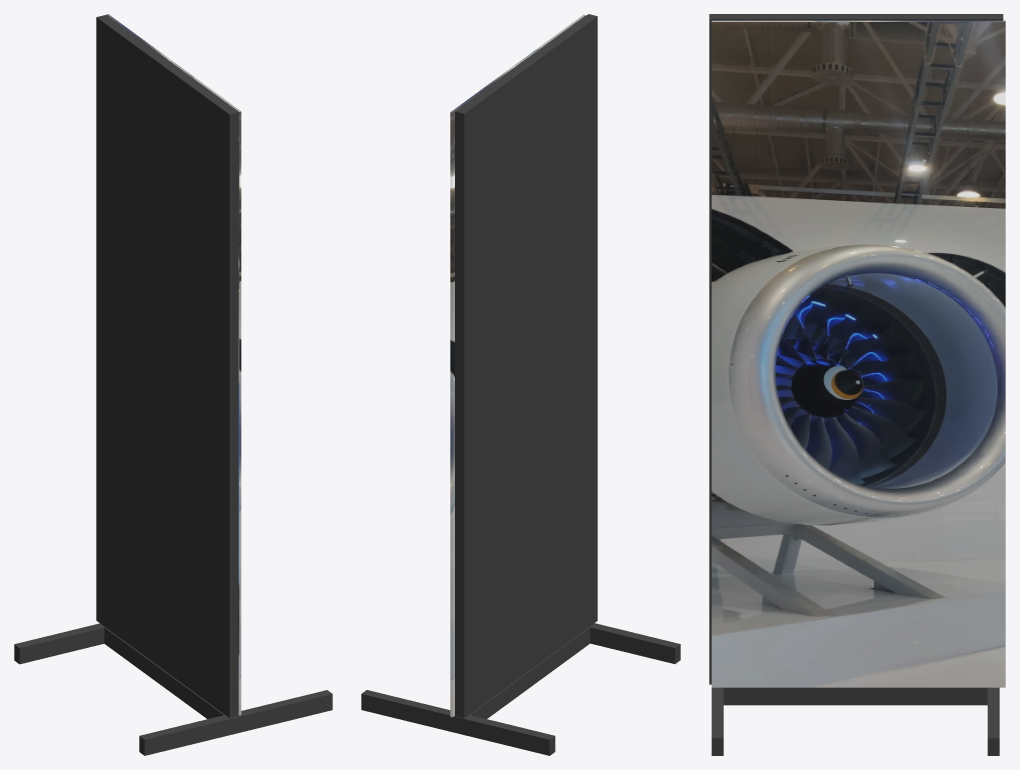
Rendered from led_panel_1x2.5_p1.9.glb.
3 views of the same model, side by side, from view 1: azimuth 30°, elevation 25°; view 2: azimuth 150°, elevation 25°; view 3: azimuth 270°, elevation 25° (orthographic). The views are drawn at different scales.
Visible parts, largest first — view 1: Box1578972515, Box1578972558, Box1578972542; view 2: Box1578972515, Box1578972558, Box1578972537, Box1578972538, Box1578972539, Box1578972540, Box1578972541; view 3: Box1578972537, Box1578972542, Box1578972541, Box1578972546, Box1578972538, Box1578972539, Box1578972540, Box1578972543, Box1578972544, Box1578972545, Box1578972558, Box1578972515.
Part boxes in pixels (<box>): Box1578972515: <box>96,15,238,717</box>; Box1578972558: <box>14,623,332,755</box>; Box1578972542: <box>172,63,241,232</box>; Box1578972515: <box>455,14,597,718</box>; Box1578972558: <box>361,623,680,755</box>; Box1578972537: <box>450,63,519,233</box>; Box1578972538: <box>450,232,454,354</box>; Box1578972539: <box>450,353,454,475</box>; Box1578972540: <box>450,474,454,596</box>; Box1578972541: <box>450,595,454,717</box>; Box1578972537: <box>858,20,1005,154</box>; Box1578972542: <box>711,20,858,154</box>; Box1578972541: <box>858,554,1005,687</box>; Box1578972546: <box>711,554,858,687</box>; Box1578972538: <box>858,155,1005,288</box>; Box1578972539: <box>858,288,1005,421</box>; Box1578972540: <box>858,421,1005,554</box>; Box1578972543: <box>711,155,858,288</box>; Box1578972544: <box>711,288,858,421</box>; Box1578972545: <box>711,421,858,554</box>; Box1578972558: <box>711,687,999,755</box>; Box1578972515: <box>709,14,1003,684</box>.
Size of the model in its own units: 0.8155 by 2.58 by 1.01.
2 materials, 1 textured.
